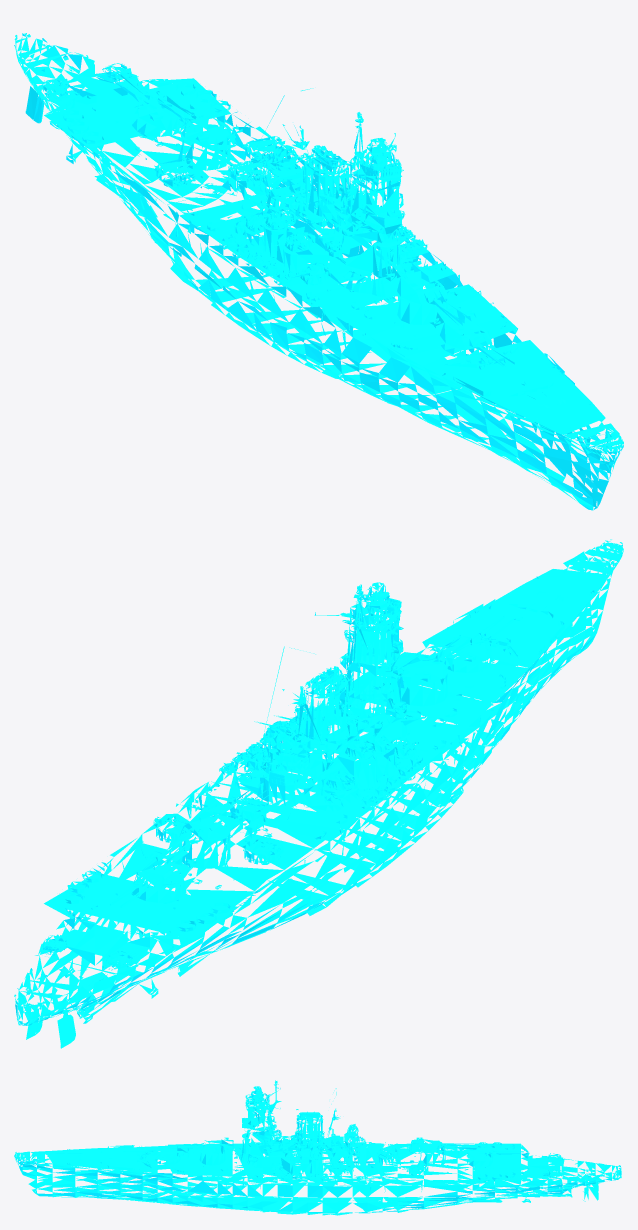
Rendered from PJSB559.glb.
3 renders of one model, top to bottom at view 1: azimuth 30°, elevation 25°; view 2: azimuth 150°, elevation 25°; view 3: azimuth 270°, elevation 25°, orthographic. The views are drawn at different scales.
Visible parts, largest first — view 1: hull_mid, hull_stern, hull_bow, main_battery, secondary_battery, hull_body, aa_mount, torpedo; view 2: hull_mid, hull_stern, hull_bow, main_battery, secondary_battery, aa_mount, hull_body, torpedo; view 3: hull_mid, hull_stern, hull_bow, main_battery, secondary_battery, hull_body, aa_mount, torpedo.
Boxes of the visible parts, x1,y1,x2,y2 form: hull_mid: [205, 88, 493, 402]; hull_stern: [14, 33, 359, 302]; hull_bow: [370, 306, 623, 510]; main_battery: [110, 75, 514, 366]; secondary_battery: [154, 136, 427, 284]; hull_body: [266, 138, 396, 167]; aa_mount: [221, 215, 425, 279]; torpedo: [42, 63, 138, 99]; hull_mid: [205, 591, 493, 887]; hull_stern: [14, 646, 360, 1048]; hull_bow: [377, 539, 623, 770]; main_battery: [110, 616, 515, 907]; secondary_battery: [153, 715, 427, 864]; aa_mount: [220, 735, 425, 805]; hull_body: [266, 582, 396, 750]; torpedo: [42, 934, 138, 970]; hull_mid: [190, 1083, 365, 1215]; hull_stern: [352, 1142, 621, 1213]; hull_bow: [14, 1144, 202, 1206]; main_battery: [123, 1137, 523, 1160]; secondary_battery: [271, 1128, 428, 1174]; hull_body: [251, 1086, 358, 1137]; aa_mount: [282, 1140, 352, 1178]; torpedo: [541, 1153, 563, 1178].
Size of the model in its own units: 2.61 by 3.71 by 17.05.
